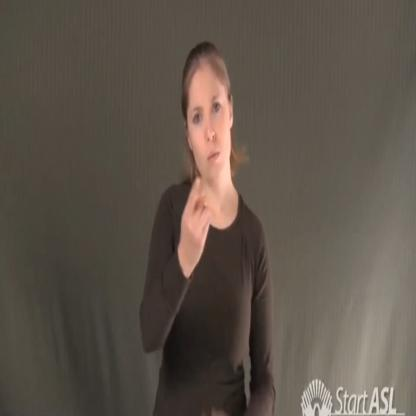HowAreYou: (137, 41, 279, 416)
